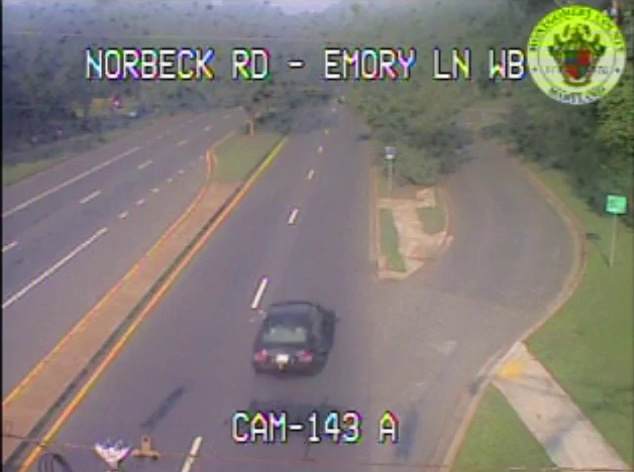car: (253, 303, 322, 372)
